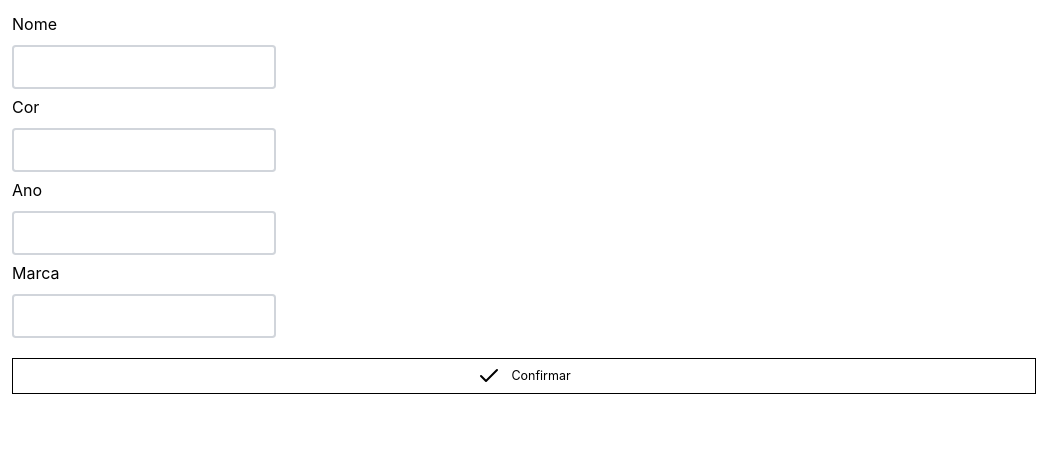
CarForm › show an error message if required fields are not filled
This screenshot has width=1048, height=455.
Click the button "Confirmar": [524, 376] box 12,358 -> 1036,394
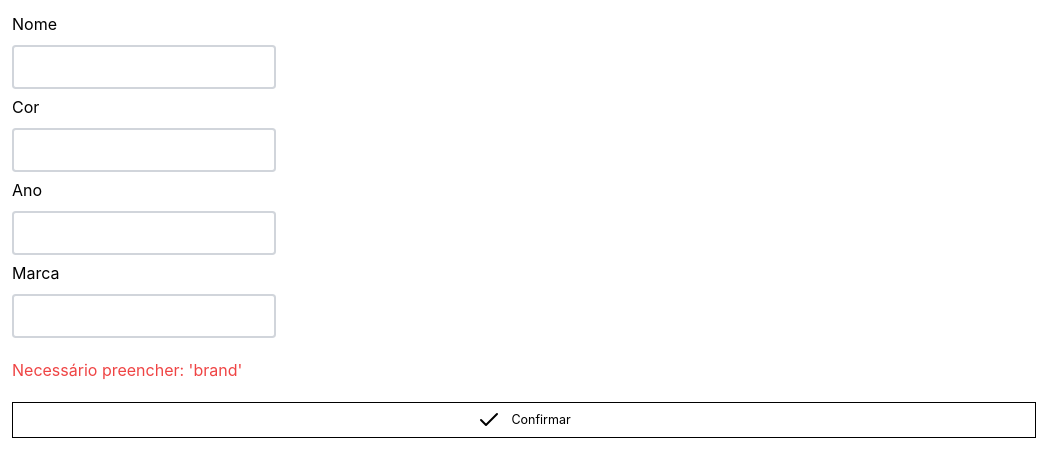
Result: the text "Necessário preencher: 'brand'" is shown at 12,360 -> 242,380
